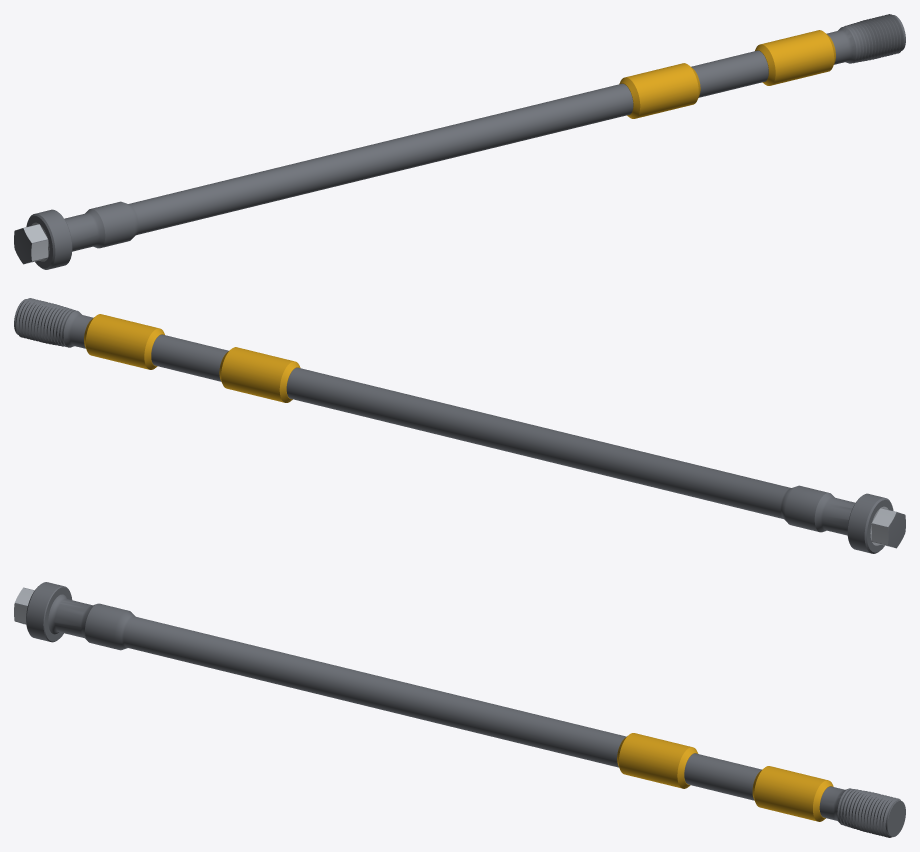
File: saplama-mtb-150-04.glb
3 views of the same model, one above another, from view 1: azimuth 30°, elevation 25°; view 2: azimuth 150°, elevation 25°; view 3: azimuth 330°, elevation 25° (orthographic).
Visible parts, largest first — view 1: body (×2); view 2: body (×2); view 3: body (×2).
Part boxes in pixels (x1,y1,x2,y2): body (×2): [14, 14, 905, 269]; body (×2): [14, 298, 905, 553]; body (×2): [14, 582, 905, 837].
Size of the model in its own units: 1.19 by 0.0679 by 0.0679.
